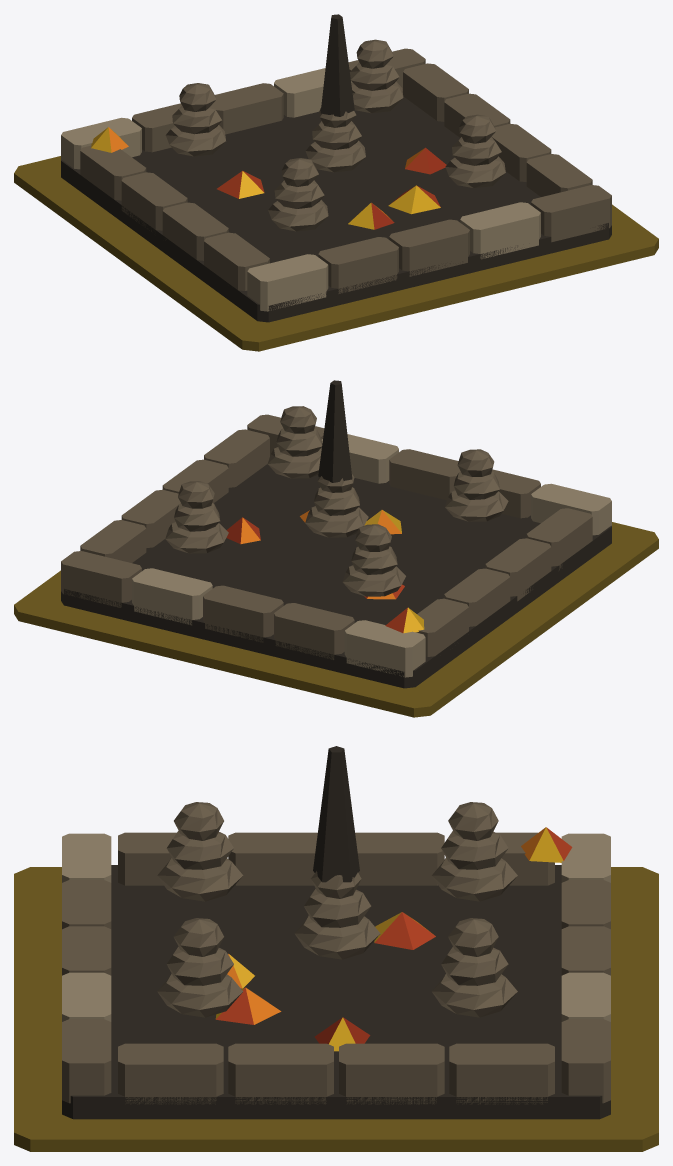
Rendered from cairnfield_t1.glb.
The picture shows the model from 3 angles, top to bottom: view 1: azimuth 30°, elevation 25°; view 2: azimuth 150°, elevation 25°; view 3: azimuth 270°, elevation 25°; orthographic projection. The views are drawn at different scales.
Visible parts, largest first — view 1: MMR | cairnfield | T01 Architecture.001, MMR | cairnfield | Tier 01 Ground.001, MMR | cairnfield | T01 Autumn Dressing.001; view 2: MMR | cairnfield | T01 Architecture.001, MMR | cairnfield | Tier 01 Ground.001, MMR | cairnfield | T01 Autumn Dressing.001; view 3: MMR | cairnfield | T01 Architecture.001, MMR | cairnfield | Tier 01 Ground.001, MMR | cairnfield | T01 Autumn Dressing.001.
Part boxes in pixels (x1,y1,x2,y2): MMR | cairnfield | T01 Architecture.001: (61, 14, 611, 322); MMR | cairnfield | Tier 01 Ground.001: (14, 156, 658, 351); MMR | cairnfield | T01 Autumn Dressing.001: (91, 127, 446, 229); MMR | cairnfield | T01 Architecture.001: (61, 380, 611, 688); MMR | cairnfield | Tier 01 Ground.001: (14, 522, 658, 717); MMR | cairnfield | T01 Autumn Dressing.001: (226, 510, 424, 633); MMR | cairnfield | T01 Architecture.001: (62, 746, 610, 1119); MMR | cairnfield | Tier 01 Ground.001: (14, 867, 658, 1151); MMR | cairnfield | T01 Autumn Dressing.001: (215, 827, 572, 1051).
Bounding box in the file's own units: 2.35 × 1.07 × 2.35.
Materials: 1 (1 with a texture image).
